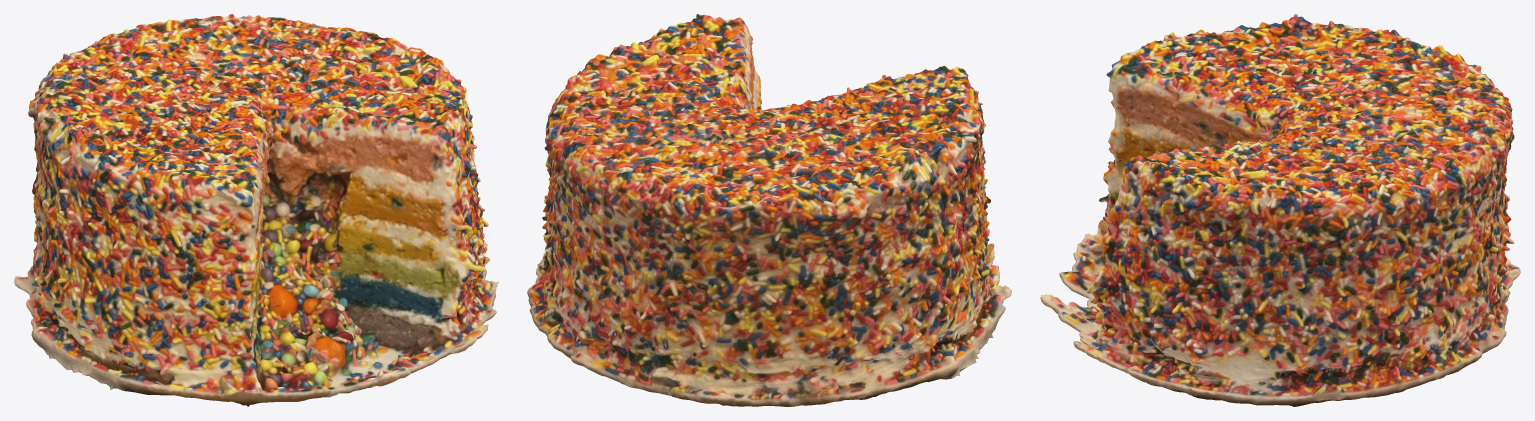
File: birthday.glb
3 renders of one model, left to right at view 1: azimuth 30°, elevation 25°; view 2: azimuth 150°, elevation 25°; view 3: azimuth 270°, elevation 25°, orthographic. The views are drawn at different scales.
Visible parts, largest first — view 1: Object_2; view 2: Object_2; view 3: Object_2.
Part boxes in pixels (x1=…): Object_2: x1=14, y1=14, x2=498, y2=406; Object_2: x1=527, y1=14, x2=1011, y2=406; Object_2: x1=1040, y1=14, x2=1520, y2=406.
Size of the model in its own units: 0.1471 by 0.0781 by 0.1512.
1 material, 1 textured.
